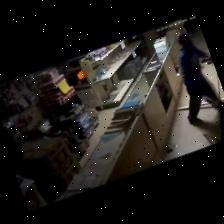person: (177, 34, 223, 124)
